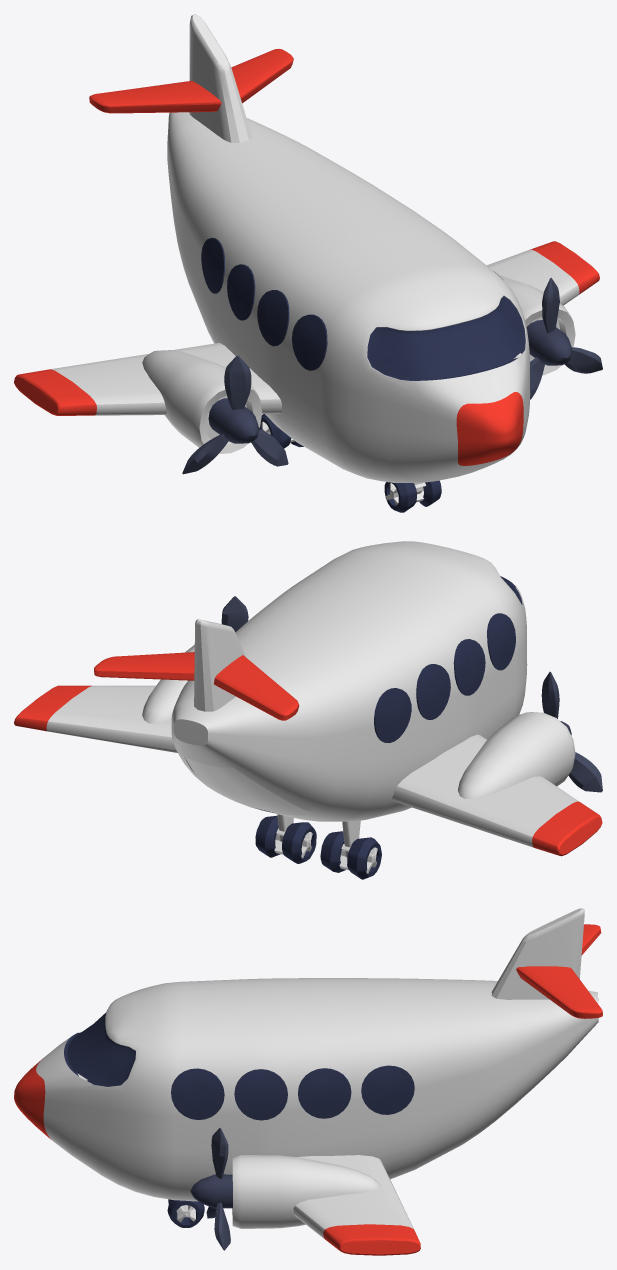
The picture shows the model from 3 angles, top to bottom: view 1: azimuth 30°, elevation 25°; view 2: azimuth 150°, elevation 25°; view 3: azimuth 270°, elevation 25°; orthographic projection. The views are drawn at different scales.
Visible parts, largest first — view 1: Plane; view 2: Plane, Open; view 3: Plane.
Boxes of the visible parts, left/top/right/bottom form: Plane: left=14, top=14, right=602, bottom=512; Plane: left=14, top=541, right=602, bottom=879; Open: left=184, top=756, right=313, bottom=815; Plane: left=14, top=908, right=602, bottom=1255.
Bounding box in the file's own units: 1269 × 746 × 1279.
